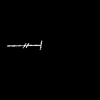treble_crochet: (14, 42, 41, 47)
